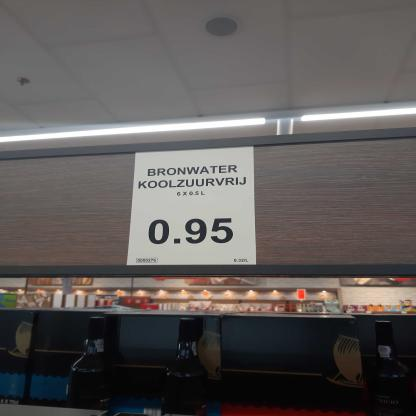prtg: (127, 146, 257, 268)
